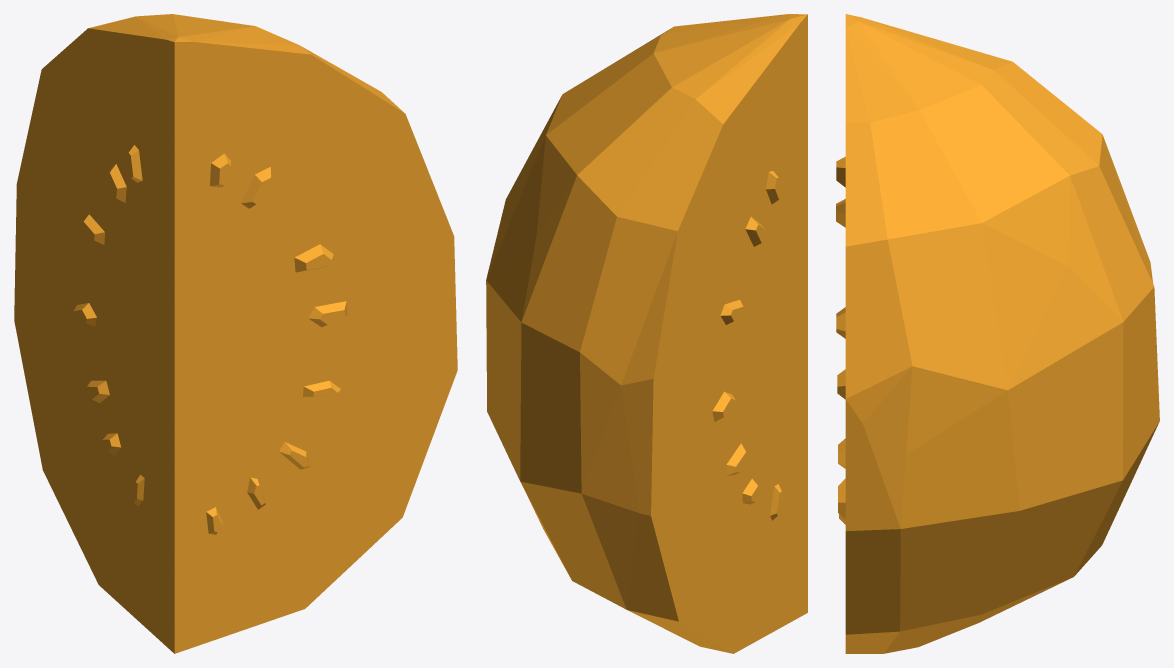
The model's file is SM_Watermelon_Quarter.fbx.
The picture shows the model from 3 angles, left to right: view 1: azimuth 30°, elevation 25°; view 2: azimuth 150°, elevation 25°; view 3: azimuth 270°, elevation 25°; orthographic projection. The views are drawn at different scales.
Parts seen in each view (by area): view 1: watermelon-quarter; view 2: watermelon-quarter; view 3: watermelon-quarter.
Part boxes in pixels (x1,y1,x2,y2): watermelon-quarter: [14, 14, 457, 653]; watermelon-quarter: [486, 14, 807, 653]; watermelon-quarter: [836, 14, 1159, 653].
Bounding box in the file's own units: 0.2073 × 0.413 × 0.2051.
